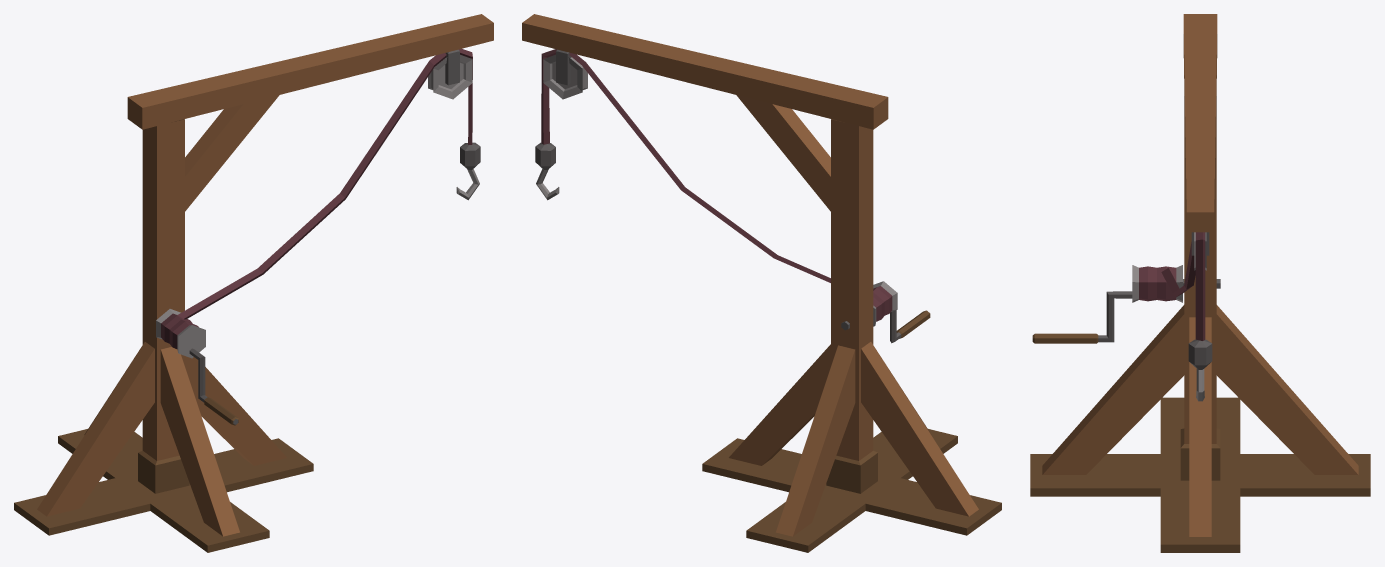
Rendered from crane-wood.fbx.
3 views of the same model, side by side, from view 1: azimuth 30°, elevation 25°; view 2: azimuth 150°, elevation 25°; view 3: azimuth 270°, elevation 25° (orthographic). The views are drawn at different scales.
Parts seen in each view (by area): view 1: crane-wood; view 2: crane-wood; view 3: crane-wood.
Part boxes in pixels (x1,y1,x2,y2): crane-wood: (14, 14, 493, 552); crane-wood: (522, 14, 1001, 552); crane-wood: (1030, 14, 1370, 552).
Size of the model in its own units: 3.71 by 3.07 by 2.11.
